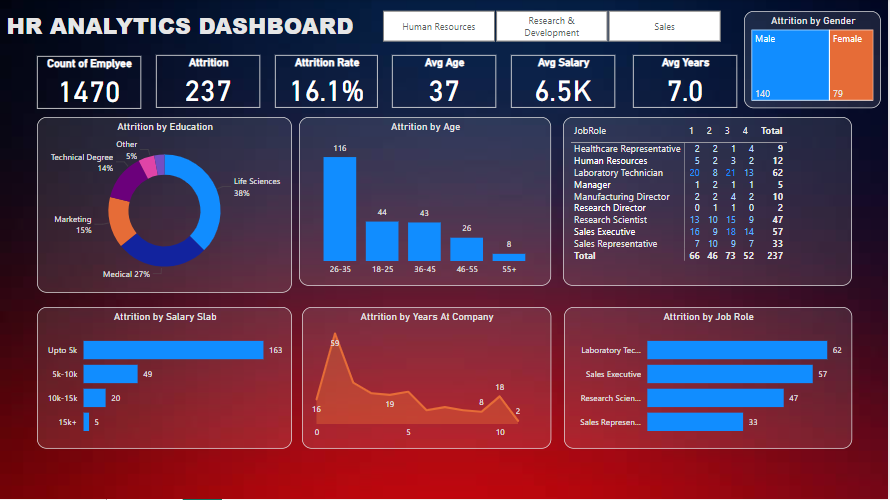

The page's visual inventory and layout, read from the dashboard file:
{"tool":"powerbi","page":{"name":"Page 1","canvas":[1280,720],"ordinal":0},"visuals":[{"type":"card","title":"Count of Emplyee","fields":{"Values":["CountNonNull(HR_Analytics.EmpID)"]},"box":[53.8,82.3,149.5,75.6],"z":0},{"type":"card","title":"Attrition","fields":{"Values":["Sum(HR_Analytics.AttritionCount)"]},"box":[224.6,80.6,149.8,76.3],"z":1000},{"type":"card","title":"Attrition Rate","fields":{"Values":["HR_Analytics.AttritionRate"]},"box":[396,80.6,148.3,76.3],"z":2000},{"type":"card","title":"Avg Age","fields":{"Values":["Avg(HR_Analytics.Age)"]},"box":[564.5,80.6,149.8,76.3],"z":3000},{"type":"card","title":"Avg Salary","fields":{"Values":["Avg(HR_Analytics.MonthlyIncome)"]},"box":[735.8,80.6,149.8,76.3],"z":4000},{"type":"card","title":"Avg Years","fields":{"Values":["Avg(HR_Analytics.YearsAtCompany)"]},"box":[911.5,80.6,149.8,76.3],"z":5000},{"type":"donutChart","title":"Attrition by Education","fields":{"Category":["HR_Analytics.EducationField"],"Y":["Sum(HR_Analytics.AttritionCount)"]},"box":[53.3,169.9,367.2,253.4],"z":6000},{"type":"columnChart","title":"Attrition by Age","fields":{"Category":["HR_Analytics.AgeGroup"],"Y":["Sum(HR_Analytics.AttritionCount)"]},"box":[430.6,169.9,362.9,243.4],"z":7000},{"type":"pivotTable","fields":{"Rows":["HR_Analytics.JobRole"],"Columns":["HR_Analytics.JobSatisfaction"],"Values":["Sum(HR_Analytics.AttritionCount)"]},"box":[810.7,169.9,416.2,243.4],"z":8000},{"type":"barChart","title":"Attrition by Salary Slab","fields":{"Category":["HR_Analytics.SalarySlab"],"Y":["Sum(HR_Analytics.AttritionCount)"]},"box":[53.3,443.5,367.2,204.5],"z":9000},{"type":"barChart","title":"Attrition by Job Role","fields":{"Category":["HR_Analytics.JobRole","HR_Analytics.SalarySlab"],"Y":["Sum(HR_Analytics.AttritionCount)"]},"box":[812.2,443.5,414.7,204.5],"z":10000},{"type":"areaChart","title":"Attrition by Years At Company","fields":{"Category":["HR_Analytics.YearsAtCompany"],"Y":["Sum(HR_Analytics.AttritionCount)"]},"box":[434.9,443.5,358.6,204.5],"z":11000},{"type":"treemap","title":"Attrition by Gender","fields":{"Group":["HR_Analytics.Gender"],"Values":["Sum(HR_Analytics.AttritionCount)"]},"box":[1071.4,17.3,197.3,139.7],"z":12000},{"type":"slicer","fields":{"Values":["HR_Analytics.Department"]},"box":[525.6,10.1,535.7,56.2],"z":13000},{"type":"textbox","box":[4.3,10.1,521.3,57.6],"z":14000}]}

Visuals, with their boxes in screenshot pixels (x1, y1, x2, y2), scaled from the page's 1280x720 canvas onto the 890x500 screenshot:
"Count of Emplyee" card: locate(37, 57, 141, 110)
"Attrition" card: locate(156, 56, 260, 109)
"Attrition Rate" card: locate(275, 56, 378, 109)
"Avg Age" card: locate(393, 56, 497, 109)
"Avg Salary" card: locate(512, 56, 616, 109)
"Avg Years" card: locate(634, 56, 738, 109)
"Attrition by Education" donutChart: locate(37, 118, 292, 294)
"Attrition by Age" columnChart: locate(299, 118, 552, 287)
pivotTable - HR_Analytics.JobRole x HR_Analytics.JobSatisfaction: locate(564, 118, 853, 287)
"Attrition by Salary Slab" barChart: locate(37, 308, 292, 450)
"Attrition by Job Role" barChart: locate(565, 308, 853, 450)
"Attrition by Years At Company" areaChart: locate(302, 308, 552, 450)
"Attrition by Gender" treemap: locate(745, 12, 882, 109)
slicer - HR_Analytics.Department: locate(365, 7, 738, 46)
textbox: locate(3, 7, 365, 47)
